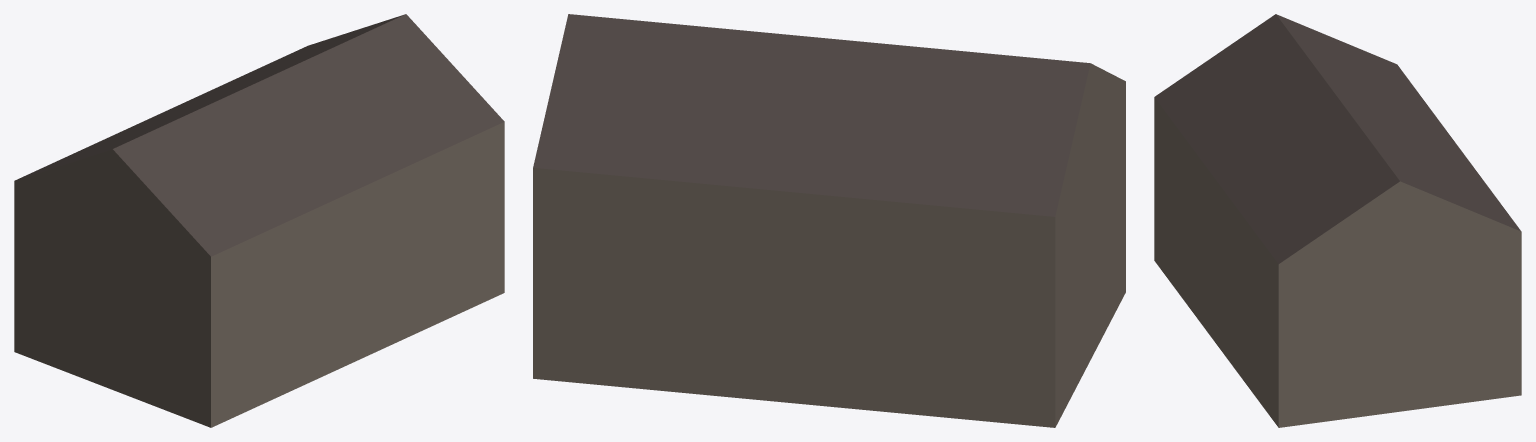
3 renders of one model, left to right at view 1: azimuth 30°, elevation 25°; view 2: azimuth 150°, elevation 25°; view 3: azimuth 270°, elevation 25°, orthographic. The views are drawn at different scales.
Parts seen in each view (by area): view 1: HP-w1198645053; view 2: HP-w1198645053; view 3: HP-w1198645053.
Boxes of the visible parts, bbox=[...] form: HP-w1198645053: bbox=[14, 14, 504, 427]; HP-w1198645053: bbox=[533, 14, 1125, 427]; HP-w1198645053: bbox=[1154, 14, 1521, 427].
Bounding box in the file's own units: 23.57 × 12.67 × 18.31.
